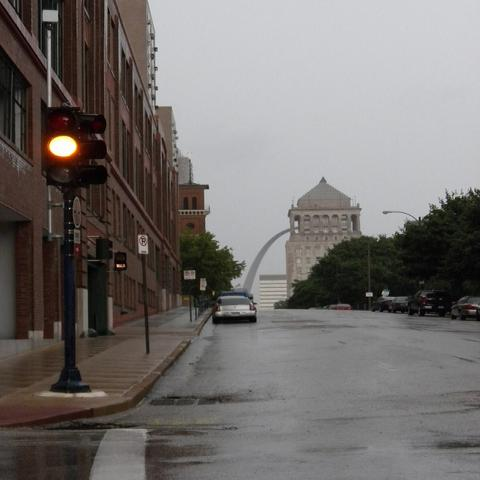car: (212, 295, 258, 325), (406, 290, 452, 317), (450, 296, 479, 320), (373, 296, 408, 313), (333, 304, 351, 310), (324, 304, 337, 310)
